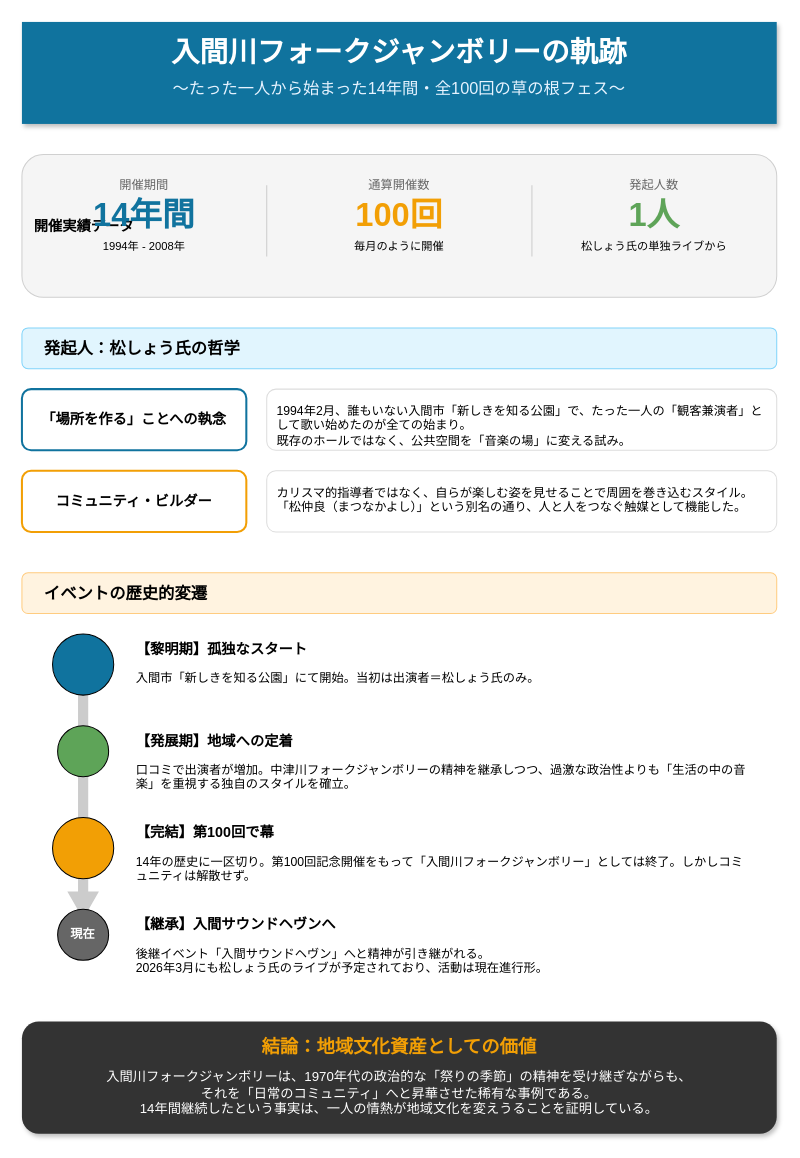
Image size: 800x1158. Some labels were removed from this diagram. Each missing label, with the centre of its shape:
"1994年" belongs at point (83, 664).
"2008年" belongs at point (83, 848).
"拡大期" belongs at point (83, 751).
